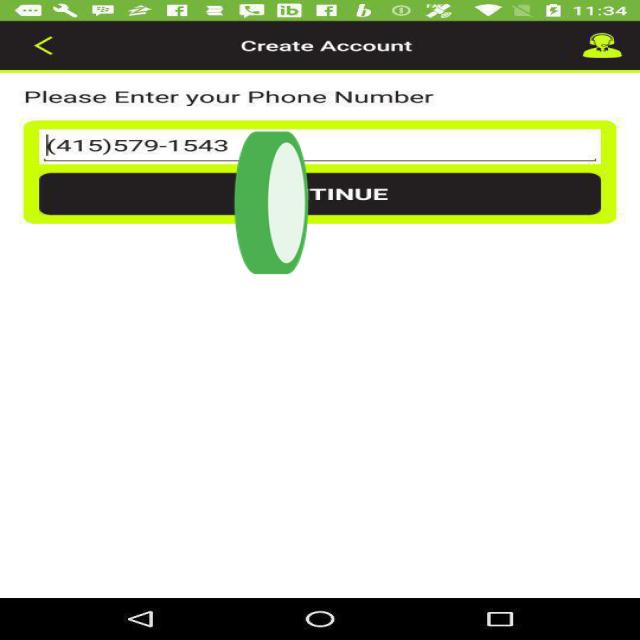social proof: (231, 77, 312, 340)
